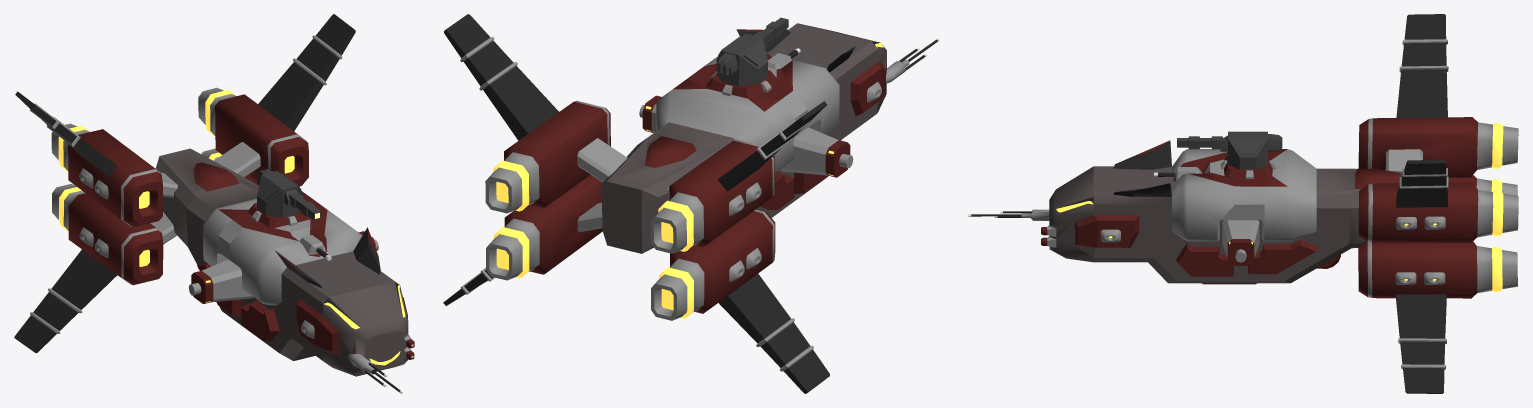
The model's file is 666_ship_medium_morningstar.glb.
The picture shows the model from 3 angles, left to right: view 1: azimuth 30°, elevation 25°; view 2: azimuth 150°, elevation 25°; view 3: azimuth 270°, elevation 25°; orthographic projection. The views are drawn at different scales.
Parts seen in each view (by area): view 1: 66_ship_medium_morningstar, 01_ship_heavy_abrundonell_turret_main_body, 01_ship_heavy_abrundonell_turret_main_barrel; view 2: 66_ship_medium_morningstar, 01_ship_heavy_abrundonell_turret_main_body, 01_ship_heavy_abrundonell_turret_main_barrel; view 3: 66_ship_medium_morningstar, 01_ship_heavy_abrundonell_turret_main_body, 01_ship_heavy_abrundonell_turret_main_barrel.
Part boxes in pixels (<box>): 66_ship_medium_morningstar: <box>14,14,414,393</box>; 01_ship_heavy_abrundonell_turret_main_body: <box>257,170,302,217</box>; 01_ship_heavy_abrundonell_turret_main_barrel: <box>257,169,320,220</box>; 66_ship_medium_morningstar: <box>443,14,939,393</box>; 01_ship_heavy_abrundonell_turret_main_body: <box>716,34,767,86</box>; 01_ship_heavy_abrundonell_turret_main_barrel: <box>716,17,788,76</box>; 66_ship_medium_morningstar: <box>968,14,1518,393</box>; 01_ship_heavy_abrundonell_turret_main_body: <box>1228,131,1267,169</box>; 01_ship_heavy_abrundonell_turret_main_barrel: <box>1177,134,1282,151</box>.
Bounding box in the file's own units: 0.6708 × 0.4881 × 1.04.
